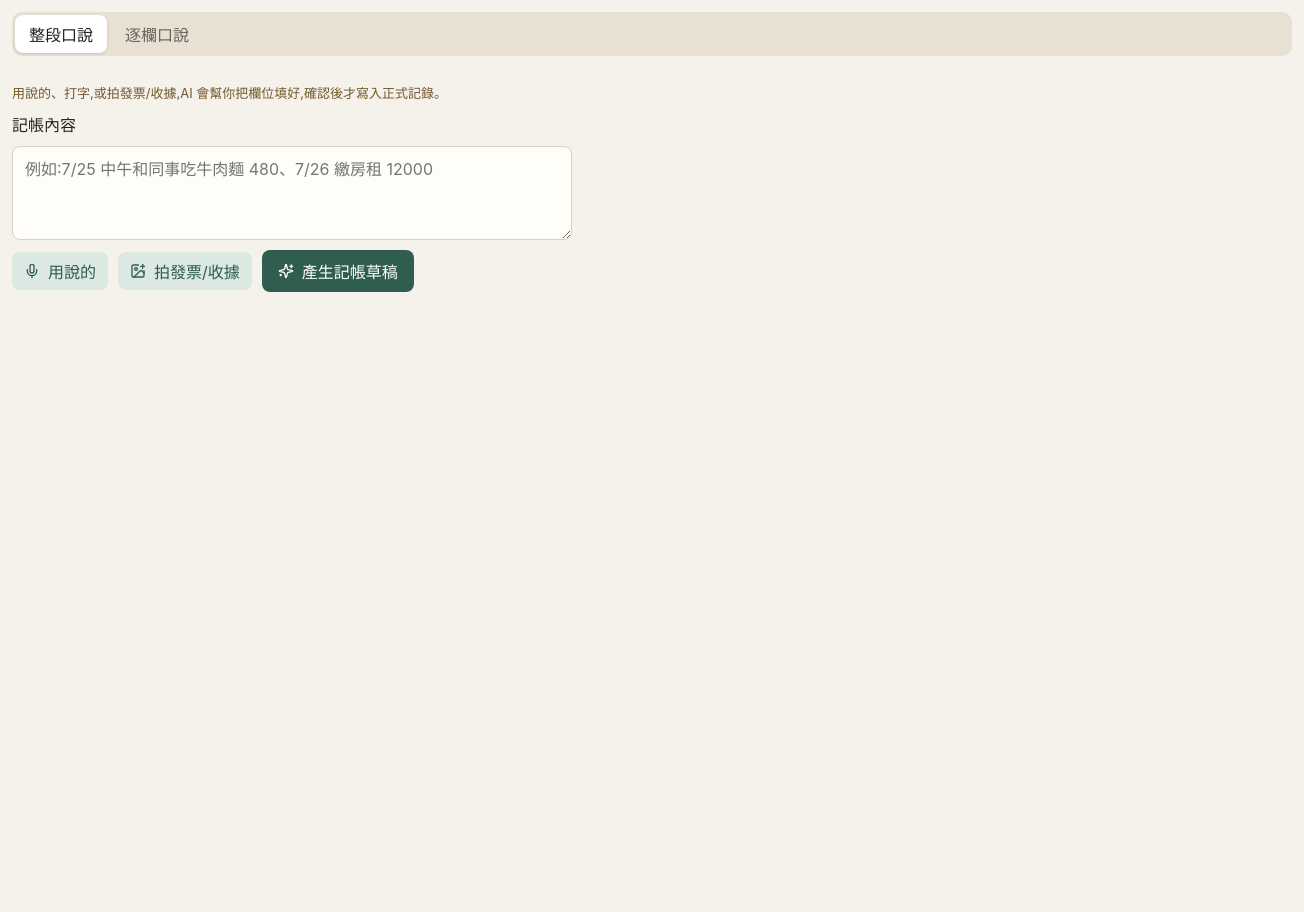
Test: AiLedgerPanel › turns typed text into a confirmable draft and saves it
In the text box labelled "記帳內容": (292, 193) [12,146,572,240], type "中午吃牛肉麵 480"
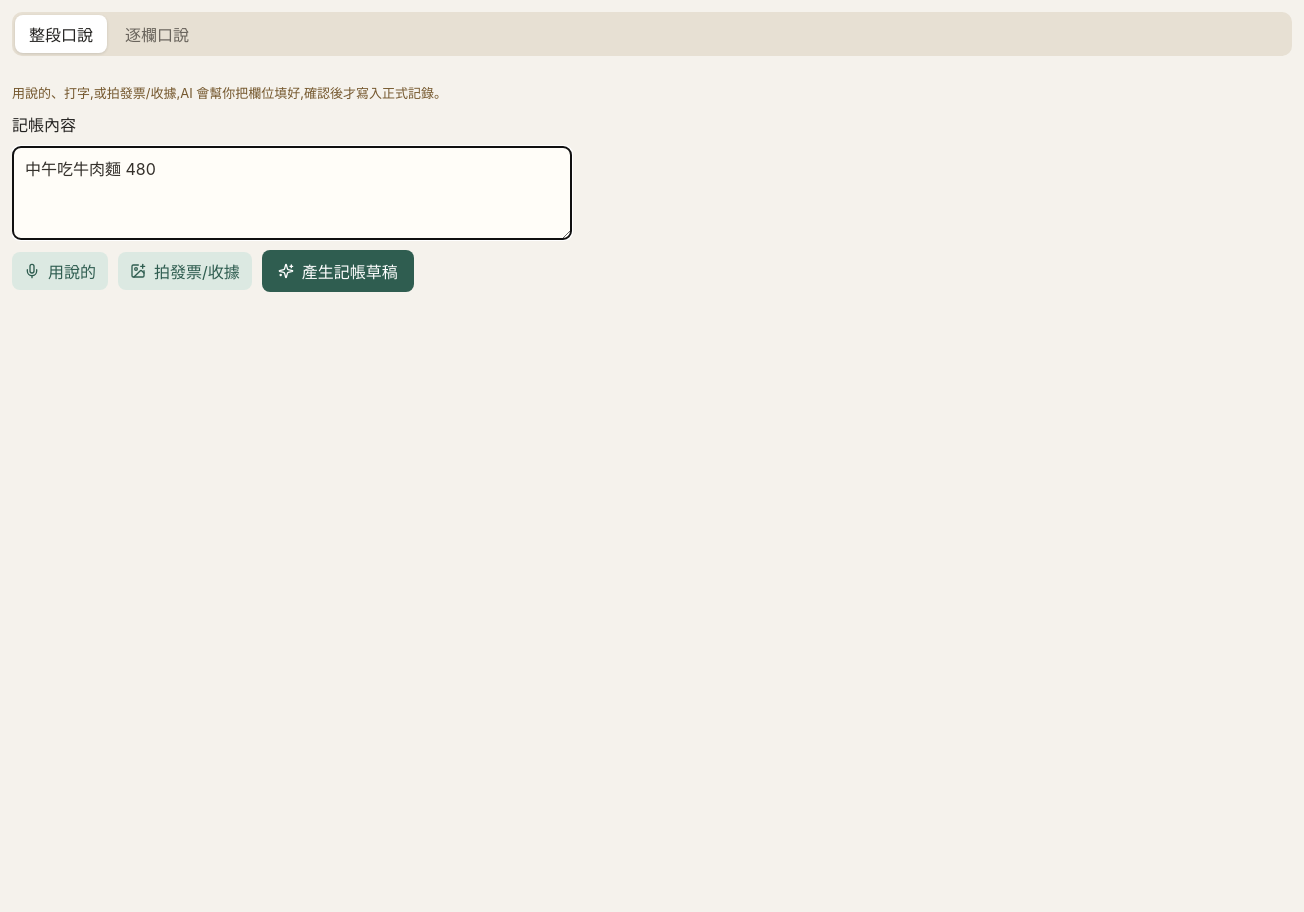
Click the button "產生記帳草稿": (338, 271) [262,250,414,292]
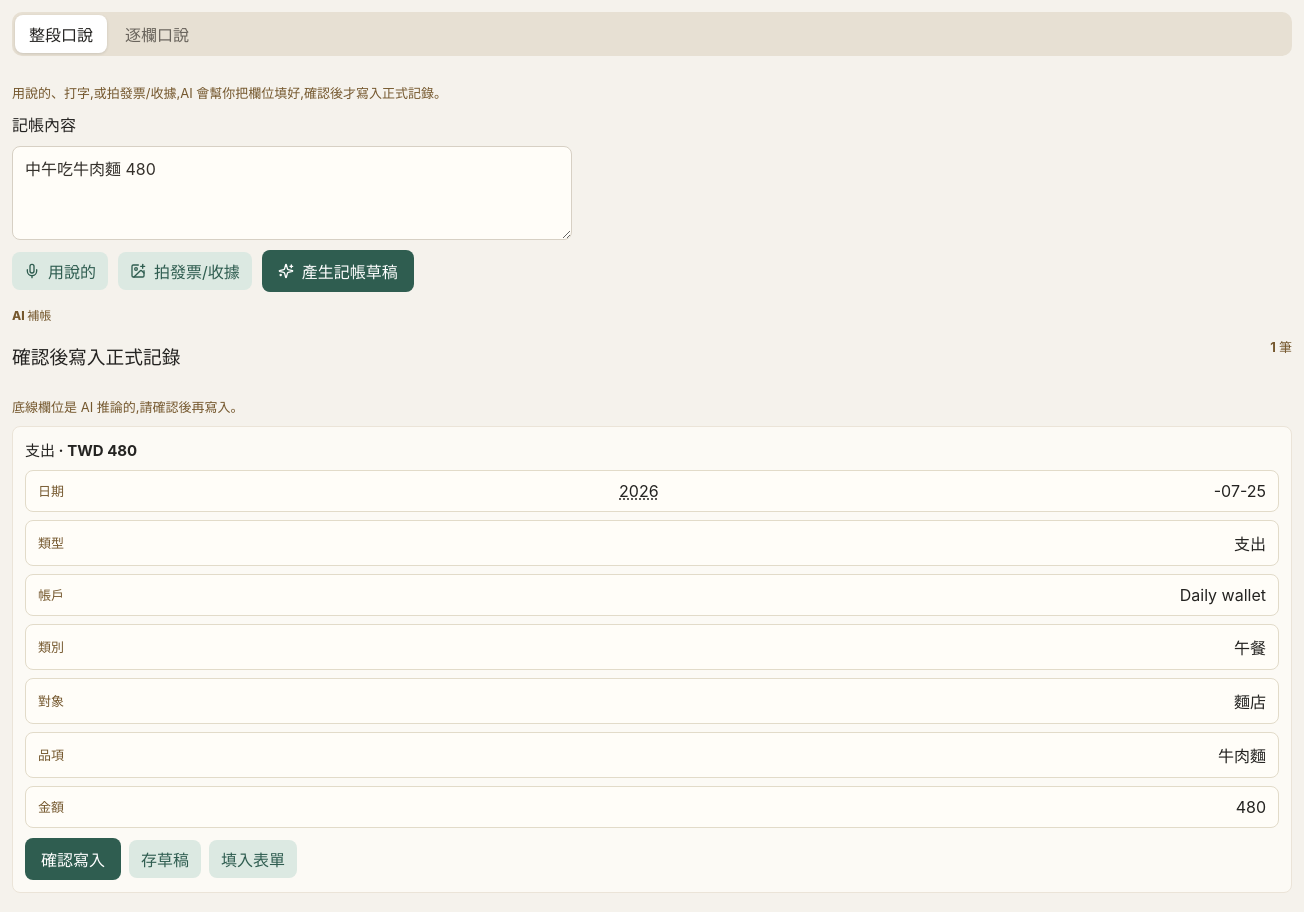
Expected: the button "確認寫入" is shown
Expected: the text "支出 · TWD 480" is shown, [25,441,137,460]
Click the button "確認寫入": (73, 859) [25,838,121,880]
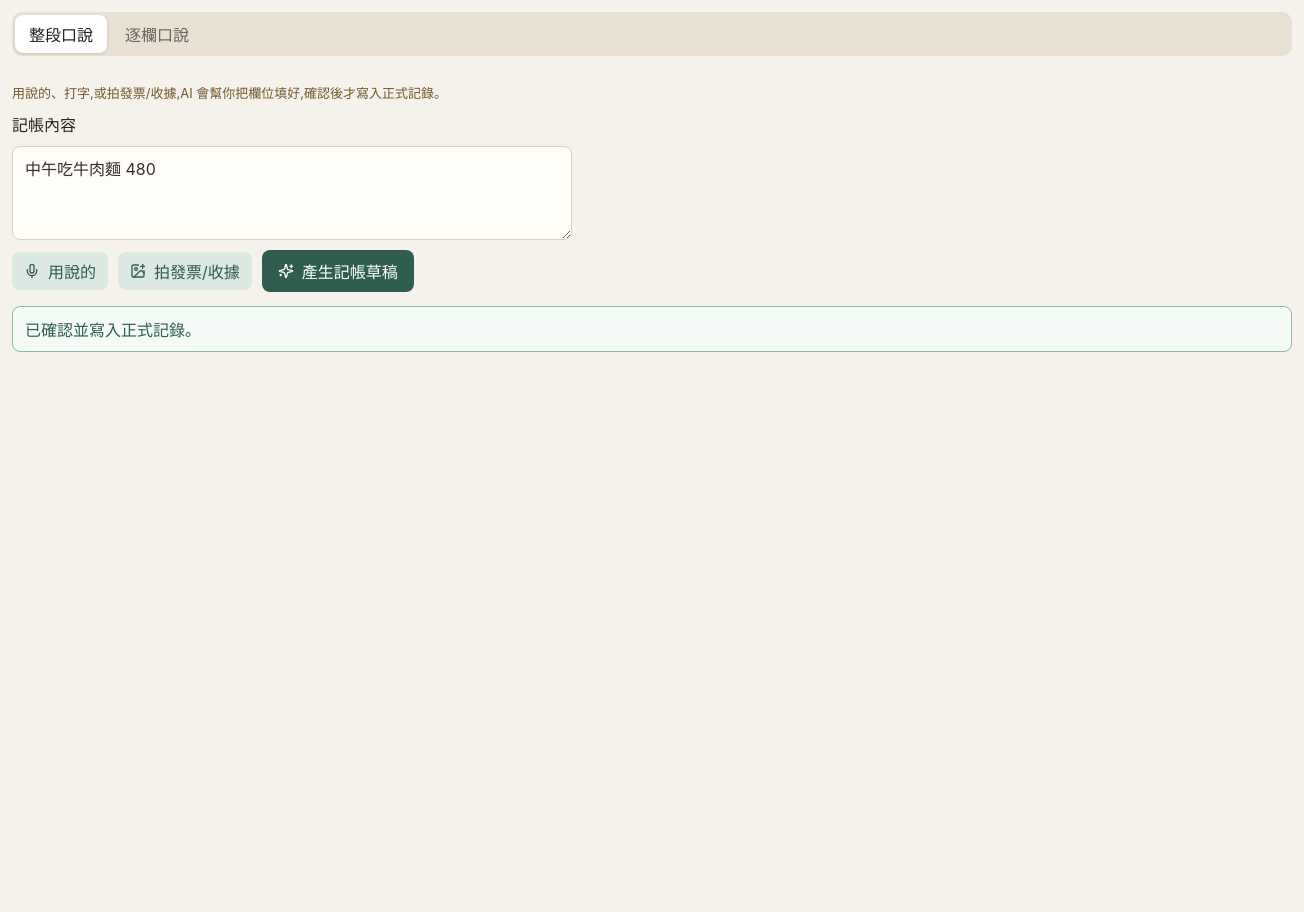
Expected: the text "已確認並寫入正式記錄。" is shown, [12,306,1292,352]
